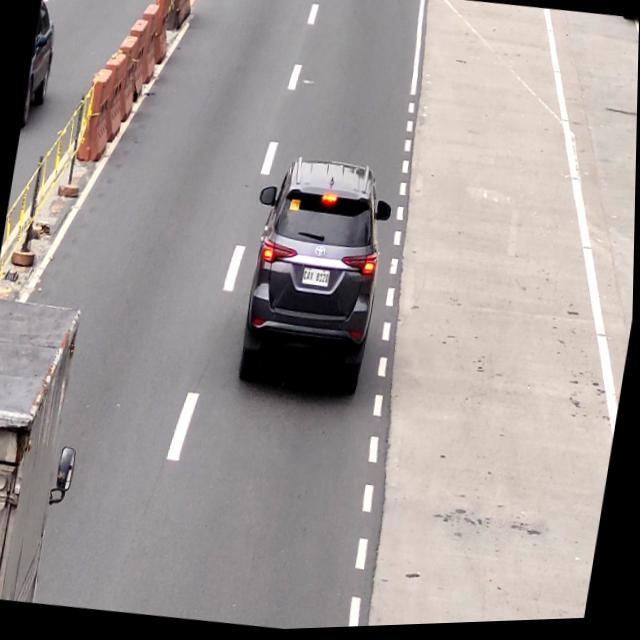Car: (236, 153, 397, 408)
License-Plate: (301, 269, 334, 293)
Truck: (0, 295, 95, 606)
